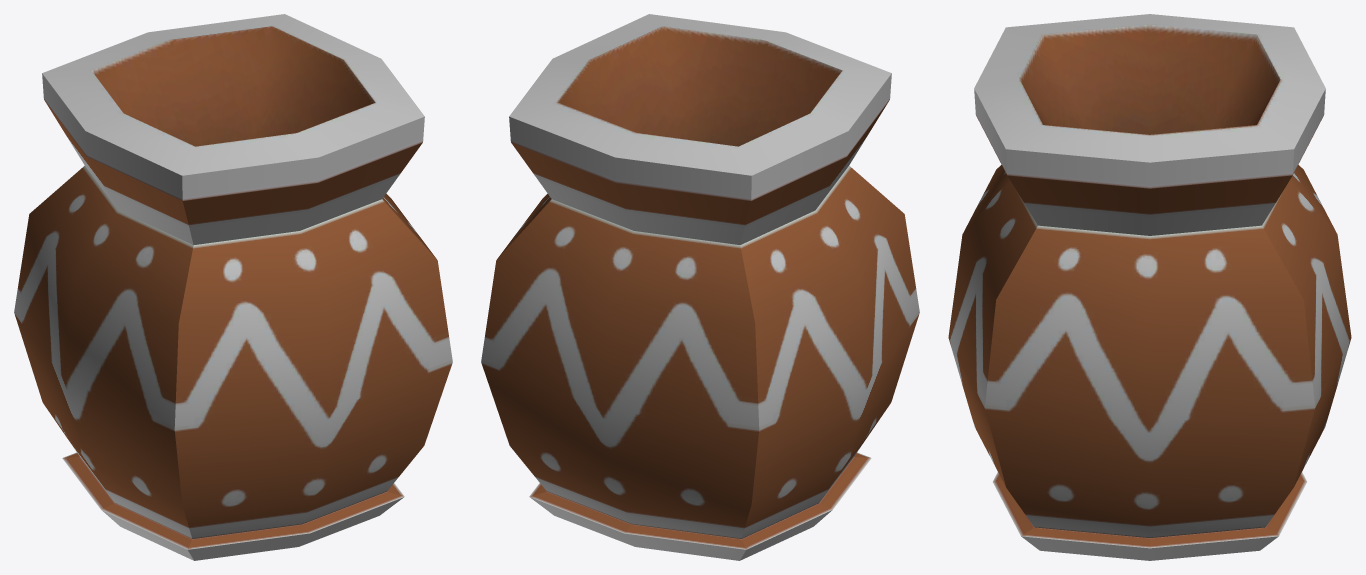
File: pot.glb
3 views of the same model, side by side, from view 1: azimuth 30°, elevation 25°; view 2: azimuth 150°, elevation 25°; view 3: azimuth 270°, elevation 25° (orthographic). The views are drawn at different scales.
Parts seen in each view (by area): view 1: FatPot; view 2: FatPot; view 3: FatPot.
Boxes of the visible parts, x1,y1,x2,y2 form: FatPot: (14,14,452,560); FatPot: (481,14,919,560); FatPot: (948,14,1351,560).
Bounding box in the file's own units: 0.3795 × 0.4409 × 0.3795.
1 material, 1 textured.
